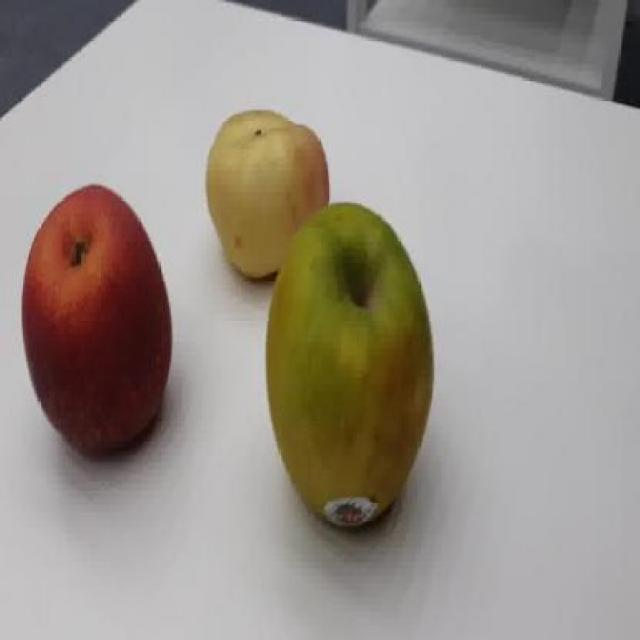Fresh Apple: (262, 200, 436, 532), (18, 174, 173, 455), (202, 104, 330, 294)
